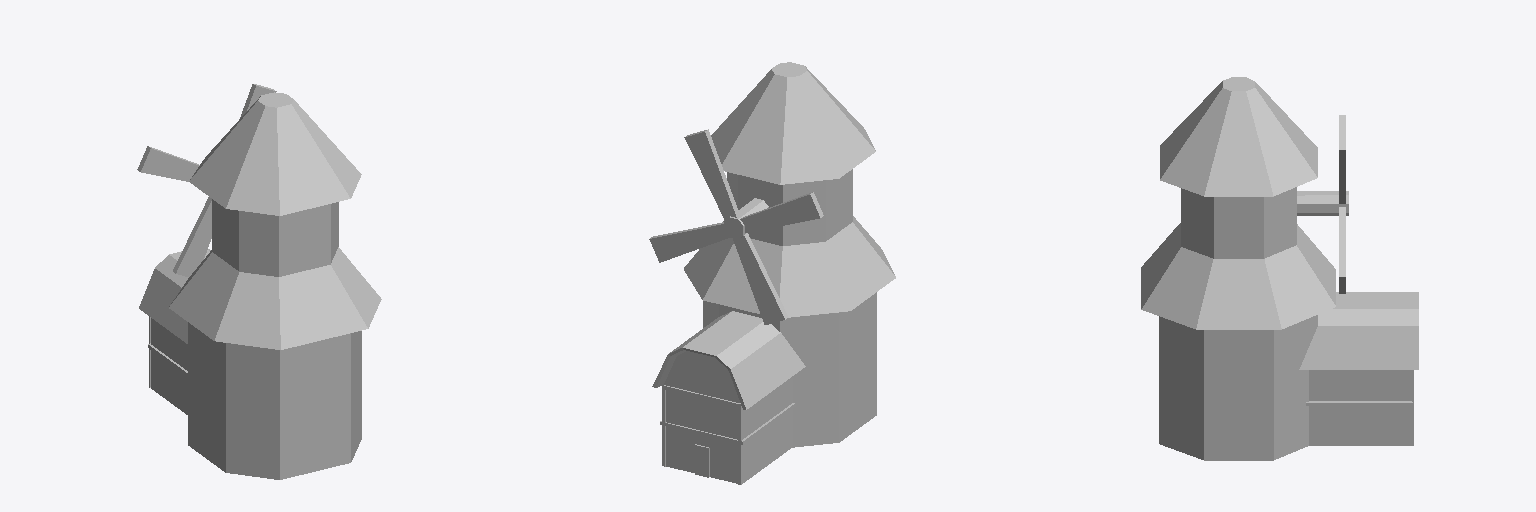
File: windmill.obj
The picture shows the model from 3 angles: view 1: azimuth 30°, elevation 25°; view 2: azimuth 150°, elevation 25°; view 3: azimuth 270°, elevation 25°; orthographic projection.
Parts seen in each view (by area): view 1: windmill, pCube46; view 2: windmill, pCube46; view 3: windmill, pCube46.
Boxes of the visible parts, <box> form: windmill: <box>139,92,381,479</box>; pCube46: <box>137,84,276,276</box>; windmill: <box>652,62,895,484</box>; pCube46: <box>649,129,823,324</box>; windmill: <box>1141,77,1418,460</box>; pCube46: <box>1339,115,1345,293</box>.
Bounding box in the file's own units: 2.21 × 4.22 × 3.09.